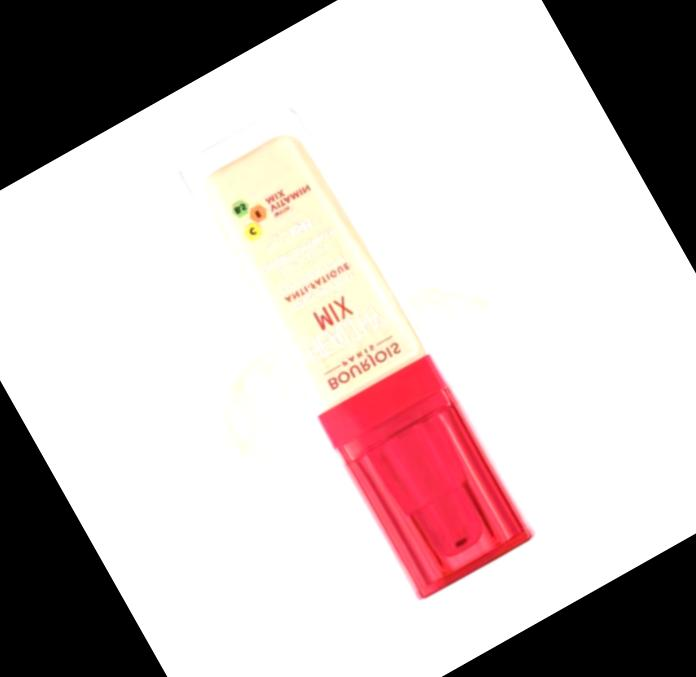cosmetic: (164, 89, 540, 603)
